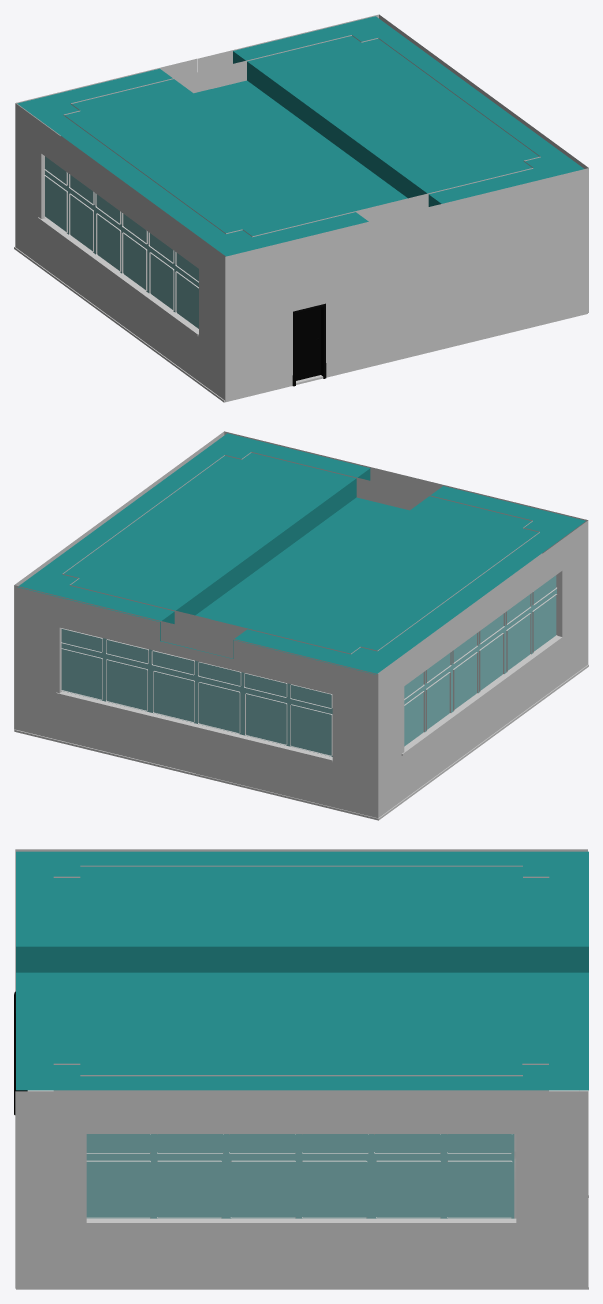
The model's file is VR_Test_Room_v1.FBX.
3 views of the same model, one above another, from view 1: azimuth 30°, elevation 25°; view 2: azimuth 150°, elevation 25°; view 3: azimuth 270°, elevation 25° (orthographic). The views are drawn at different scales.
Visible parts, largest first — view 1: Box011, Box008, Box007, Box005, Box006, Glass_002, Window_Frame_002, _Door_Front, Box004, Box001, Floor_10mx10m, Window_Sill_002 (+3 smaller); view 2: Box011, Box004, Box001, Glass_001, Box006, Box005, Glass_002, Window_Frame_001, Window_Frame_002, Floor_10mx10m, Box008, Window_Sill_001 (+4 smaller); view 3: Box011, Box010, Box009, Glass_003, Window_Sill_003, Window_Frame_003, Box006, Box005, Floor_10mx10m.
Part boxes in pixels (left/top/right/bottom): Box011: left=17, top=16, right=583, bottom=256; Box008: left=393, top=161, right=588, bottom=356; Box007: left=225, top=202, right=406, bottom=401; Box005: left=15, top=103, right=144, bottom=323; Box006: left=120, top=174, right=242, bottom=401; Glass_002: left=45, top=156, right=198, bottom=328; Window_Frame_002: left=44, top=169, right=198, bottom=329; _Door_Front: left=296, top=307, right=320, bottom=380; Box004: left=197, top=14, right=378, bottom=88; Box001: left=15, top=58, right=211, bottom=137; Floor_10mx10m: left=14, top=247, right=587, bottom=402; Window_Sill_002: left=38, top=217, right=198, bottom=336; Box011: left=17, top=433, right=585, bottom=674; Box004: left=14, top=578, right=210, bottom=773; Box001: left=196, top=619, right=378, bottom=817; Glass_001: left=61, top=629, right=332, bottom=756; Box006: left=458, top=520, right=588, bottom=740; Box005: left=360, top=591, right=483, bottom=817; Glass_002: left=404, top=575, right=556, bottom=746; Window_Frame_001: left=61, top=628, right=332, bottom=756; Window_Frame_002: left=404, top=574, right=557, bottom=747; Floor_10mx10m: left=14, top=664, right=588, bottom=820; Box008: left=224, top=431, right=406, bottom=505; Window_Sill_001: left=56, top=691, right=332, bottom=762; Box011: left=16, top=851, right=588, bottom=1090; Box010: left=15, top=1075, right=301, bottom=1288; Box009: left=301, top=1075, right=587, bottom=1288; Glass_003: left=86, top=1134, right=514, bottom=1218; Window_Sill_003: left=86, top=1218, right=516, bottom=1224; Window_Frame_003: left=86, top=1134, right=516, bottom=1218; Box006: left=15, top=849, right=301, bottom=991; Box005: left=301, top=849, right=587, bottom=866; Floor_10mx10m: left=16, top=1198, right=588, bottom=1289.
Bounding box in the file's own units: 10.02 × 3.83 × 10.03.
